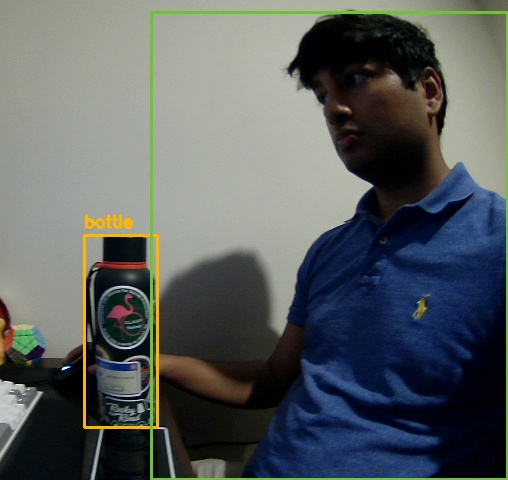bottle: (84, 235, 157, 427)
